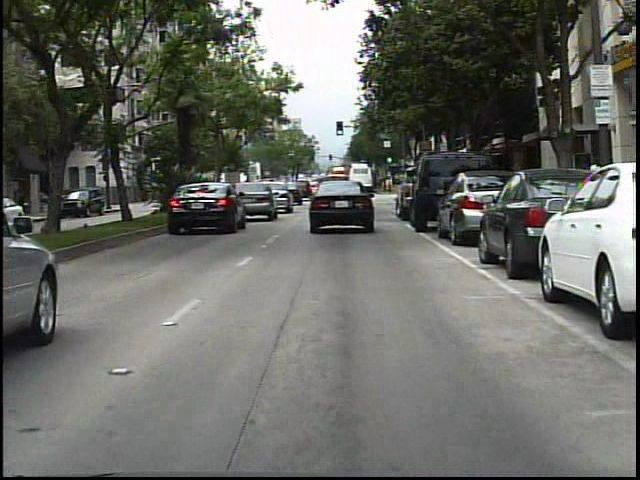person: (586, 153, 610, 224)
